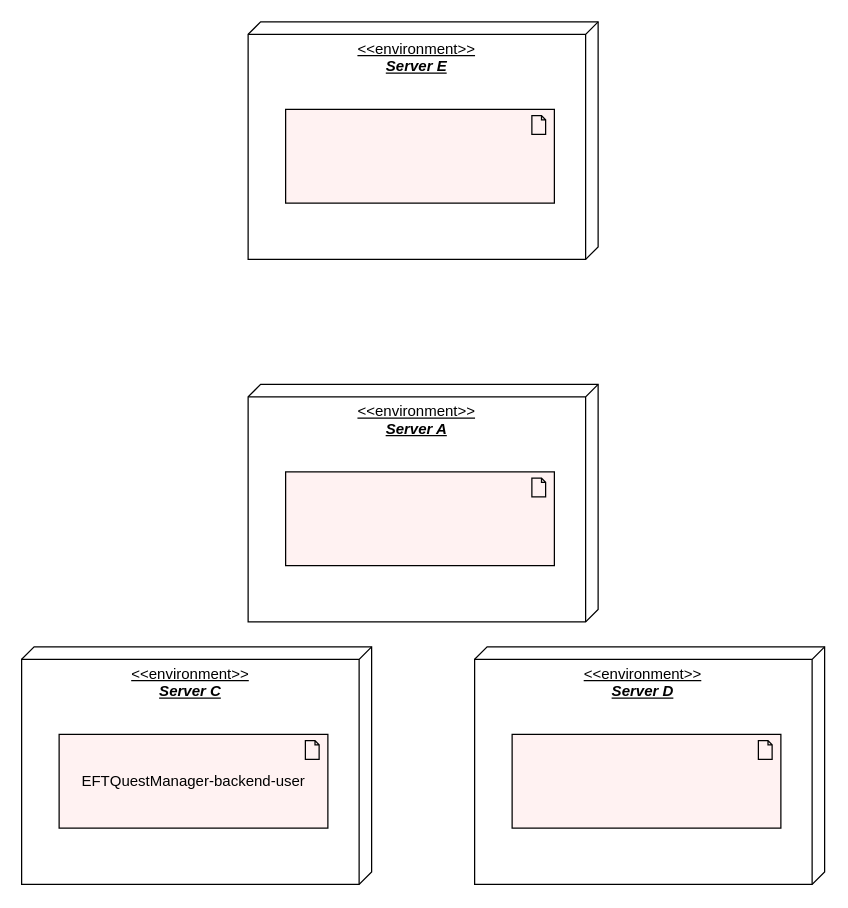
Image size: 848x908. Some labels were removed from this diagram. Each missing label, with the centre of its shape:
"EFTQuestManager-backend-gateway" belongs at (x=419, y=518).
"EFTQuestManager-backend-quest" belongs at (x=646, y=780).
"EFTQuestManager-frontend" belongs at (x=419, y=155).
